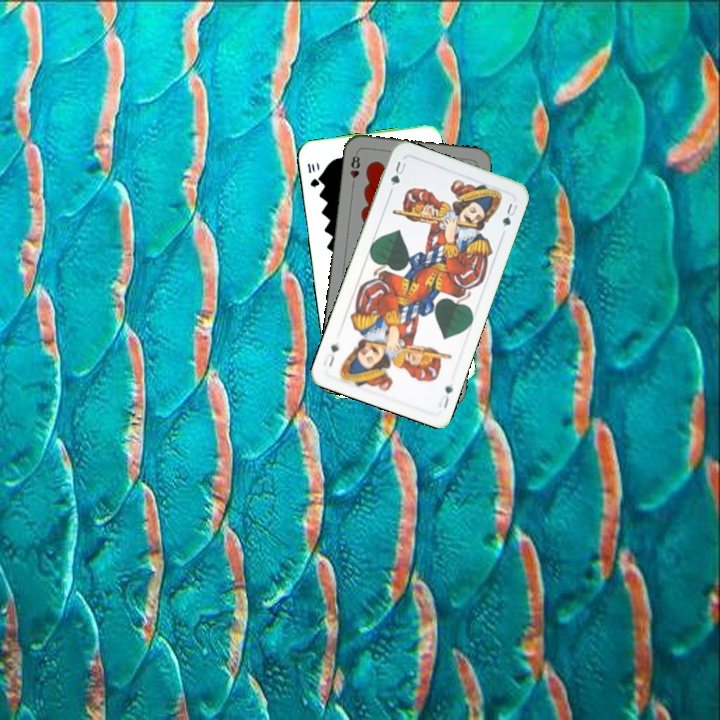G10: (303, 159, 322, 190)
GU: (386, 157, 409, 188), (434, 382, 455, 411)
H8: (346, 149, 362, 189)
